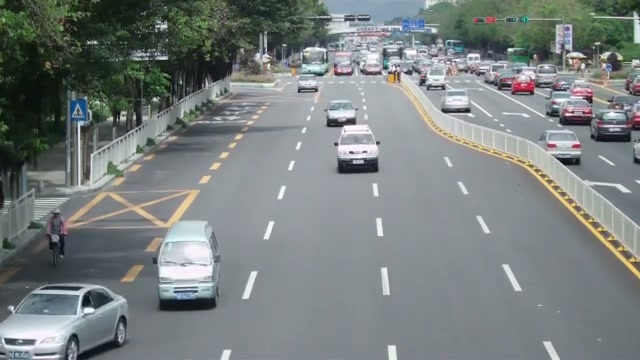bus: (302, 47, 330, 76)
car: (0, 282, 129, 359), (156, 219, 222, 310), (334, 124, 379, 173), (538, 129, 583, 164), (590, 110, 633, 142), (325, 99, 357, 127), (559, 99, 593, 125), (440, 88, 471, 113), (544, 91, 573, 116), (511, 74, 535, 95), (569, 83, 594, 102), (624, 70, 640, 95), (297, 74, 319, 92)
pedestrian: (45, 209, 67, 259)
truck: (333, 53, 353, 76)
